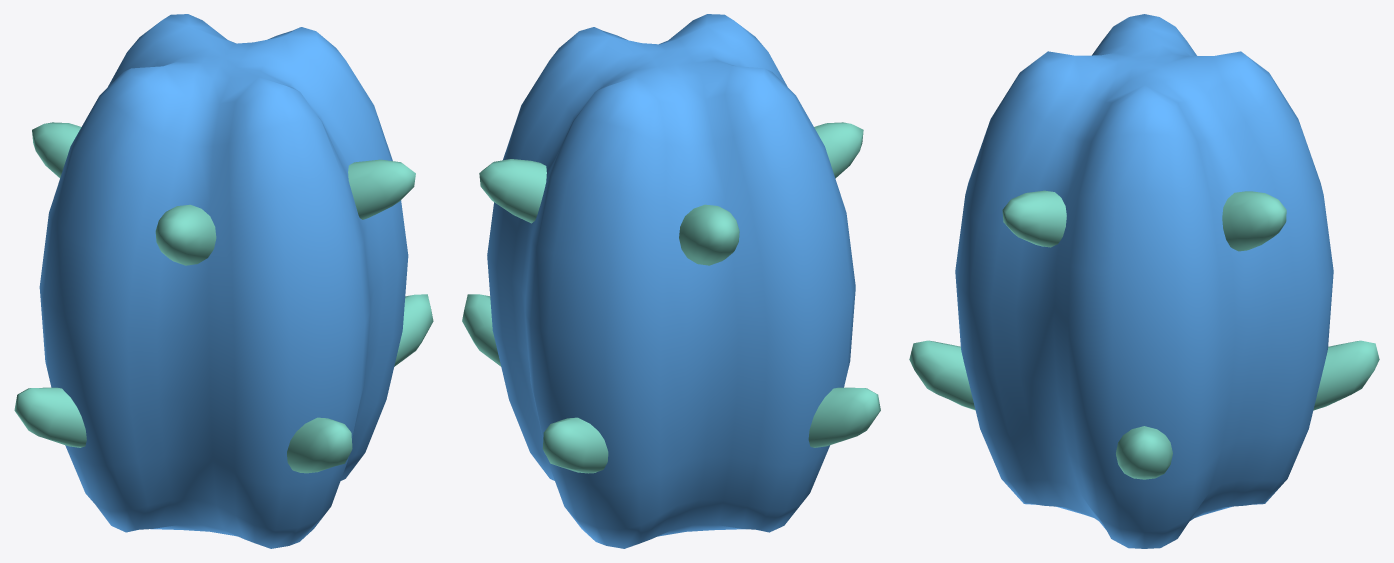
The model's file is Cactus_A_02.fbx.
The picture shows the model from 3 angles, left to right: view 1: azimuth 30°, elevation 25°; view 2: azimuth 150°, elevation 25°; view 3: azimuth 270°, elevation 25°; orthographic projection.
Visible parts, largest first — view 1: Cactus_A_02_LOD0; view 2: Cactus_A_02_LOD0; view 3: Cactus_A_02_LOD0.
Boxes of the visible parts, bbox=[...] form: Cactus_A_02_LOD0: bbox=[14, 14, 433, 548]; Cactus_A_02_LOD0: bbox=[462, 14, 880, 548]; Cactus_A_02_LOD0: bbox=[909, 14, 1379, 548].
Size of what is drawn, in the model's own units: 467 by 502 by 467.
